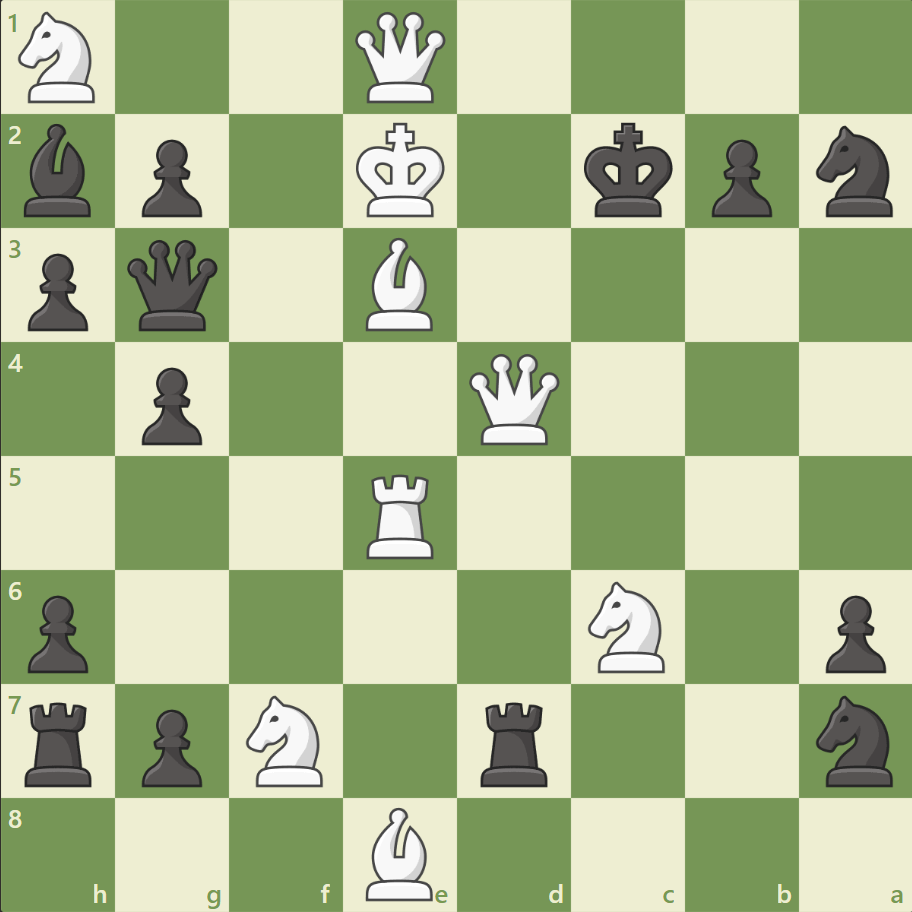B: (358, 801, 442, 904), (358, 233, 442, 336)
K: (351, 117, 451, 225)
N: (238, 688, 335, 791), (11, 7, 108, 110), (579, 575, 676, 677)
Q: (464, 349, 563, 449), (351, 9, 450, 108)
R: (360, 466, 442, 563)
b: (17, 120, 101, 222)
k: (579, 117, 679, 225)
n: (806, 688, 903, 791), (806, 121, 903, 223)
p: (133, 700, 208, 791), (20, 586, 95, 677), (133, 359, 208, 450), (20, 246, 95, 337), (701, 132, 776, 223), (133, 132, 208, 223), (815, 586, 889, 677)
q: (124, 236, 223, 335)
r: (473, 693, 556, 790), (19, 693, 102, 790)
